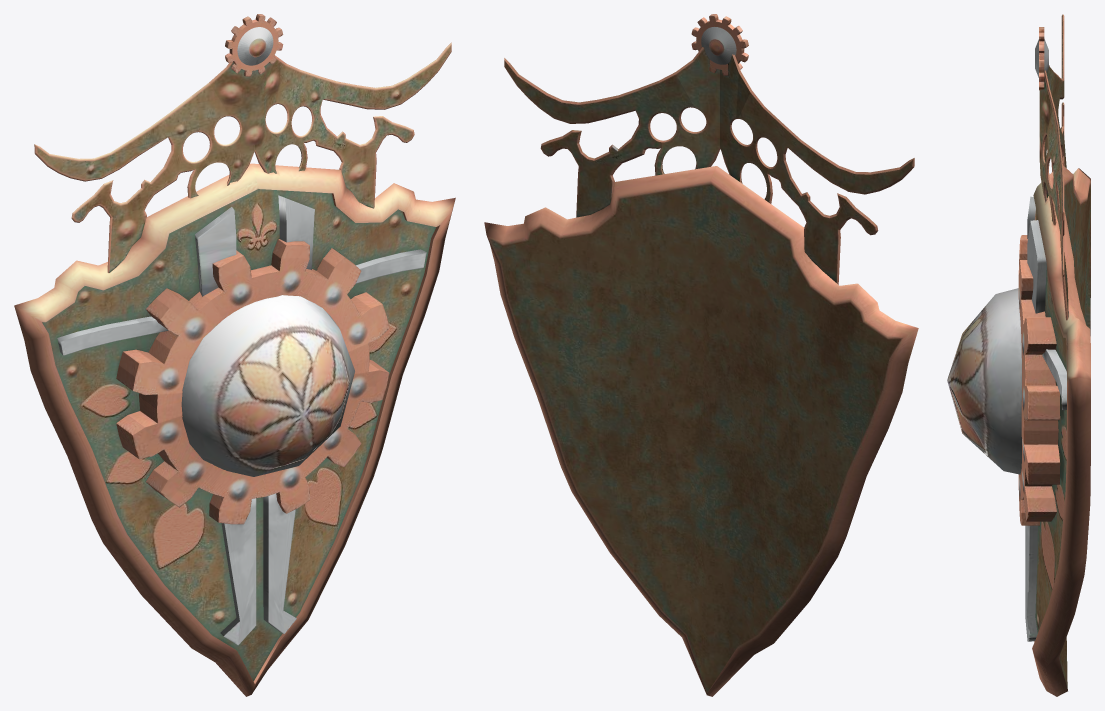
Rendered from 78bd9590-38b4-4786-8304-b3b10dea4628.glb.
The picture shows the model from 3 angles, left to right: view 1: azimuth 30°, elevation 25°; view 2: azimuth 150°, elevation 25°; view 3: azimuth 270°, elevation 25°; orthographic projection. The views are drawn at different scales.
Parts seen in each view (by area): view 1: steampunkShield; view 2: steampunkShield; view 3: steampunkShield.
Part boxes in pixels (x1,y1,x2,y2): steampunkShield: [14, 14, 455, 696]; steampunkShield: [484, 14, 918, 696]; steampunkShield: [947, 14, 1090, 696].
Size of what is drawn, in the model's own units: 0.7393 by 1.1 by 0.2146.
Materials: 1 (1 with a texture image).
